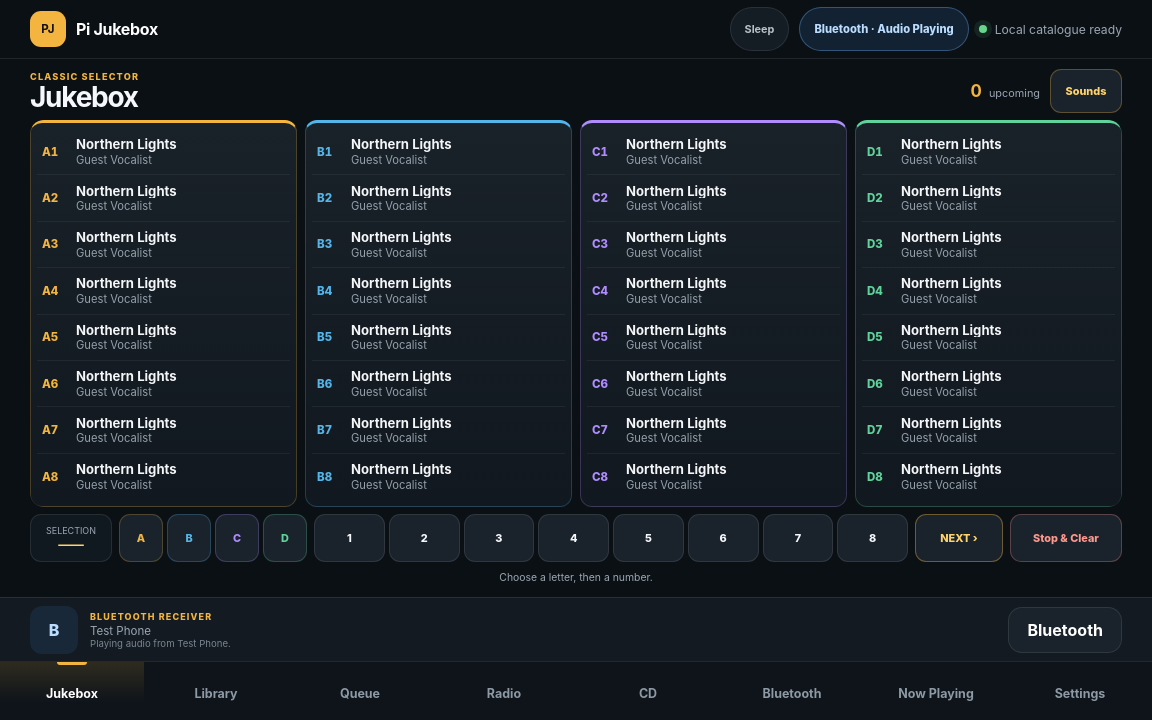
Test: App catalogue interface › keeps active Bluetooth connected and shows no invented metadata
Expected: the heading "Jukebox" is shown, [30,83,139,111]
Click the button "Sleep" at (759, 29), box [730,7,789,51]
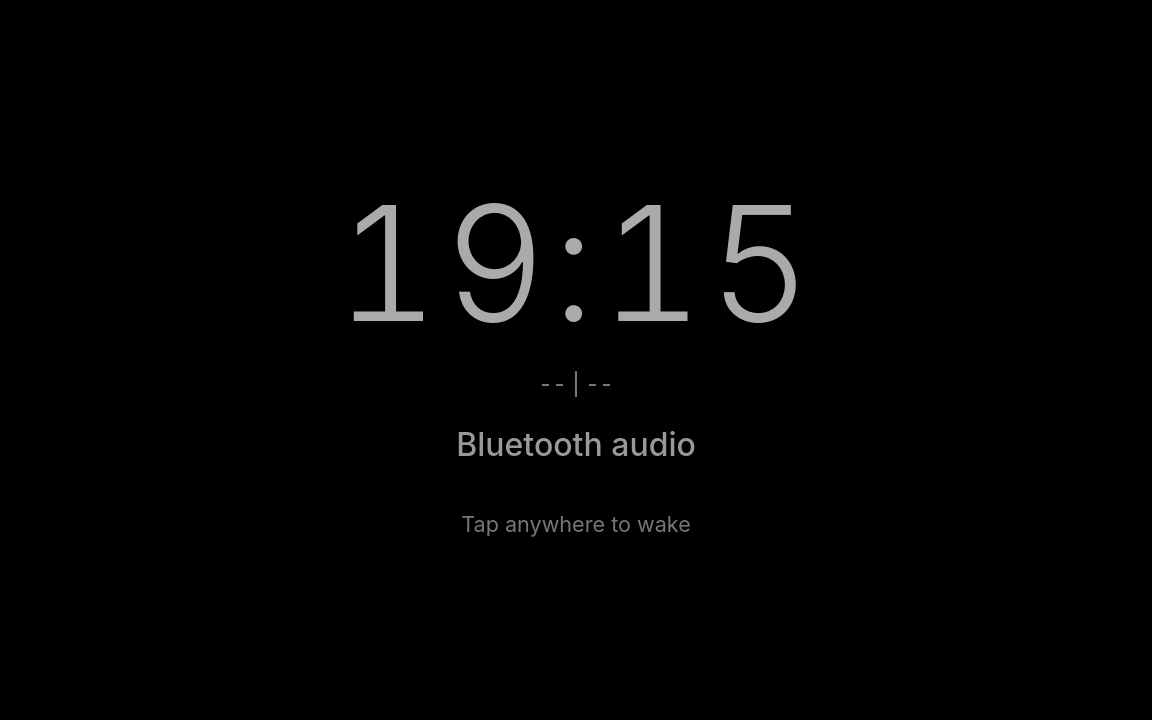
Expected: the text "Bluetooth audio" is shown, [456,425,696,464]
